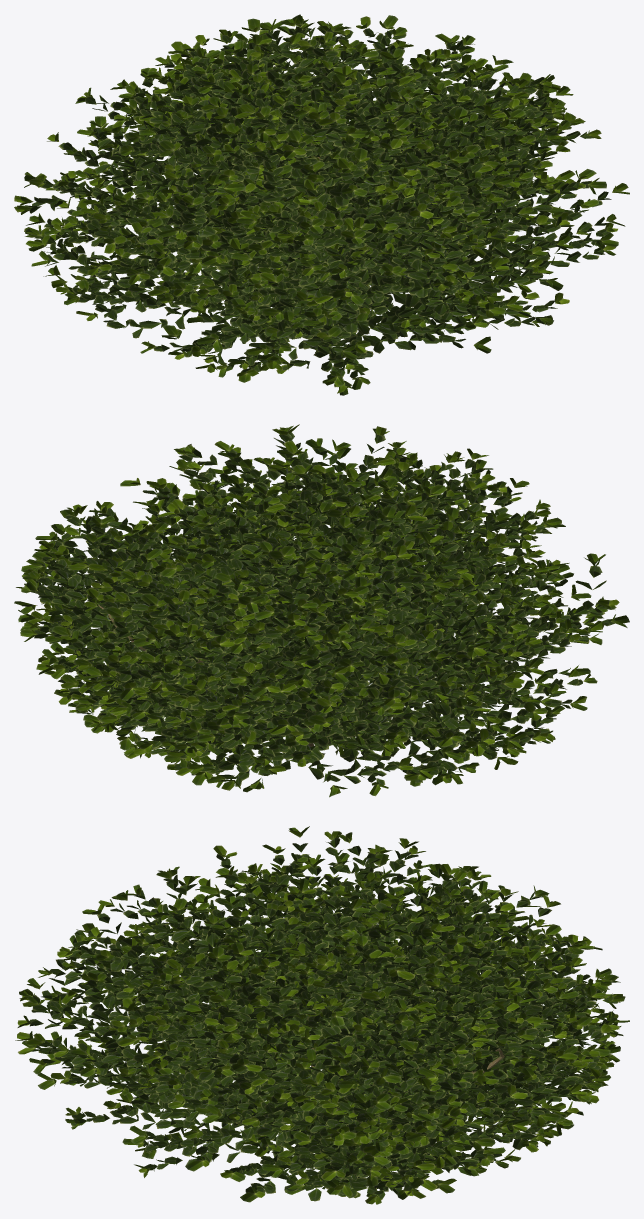
File: Shrub.glb
3 renders of one model, top to bottom at view 1: azimuth 30°, elevation 25°; view 2: azimuth 150°, elevation 25°; view 3: azimuth 270°, elevation 25°, orthographic.
Visible parts, largest first — view 1: Shrub; view 2: Shrub; view 3: Shrub.
Boxes of the visible parts, left/top/right/bottom form: Shrub: left=14, top=14, right=629, bottom=395; Shrub: left=14, top=424, right=629, bottom=797; Shrub: left=15, top=826, right=629, bottom=1204.
Bounding box in the file's own units: 2.99 × 1.5 × 2.99.
1 material, 1 textured.
